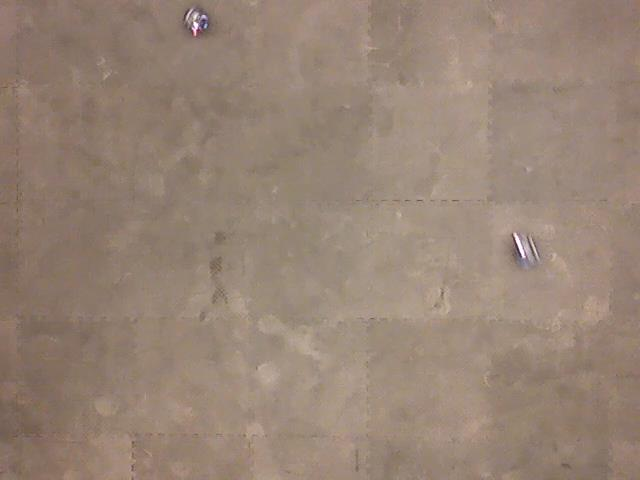Agent: (507, 227, 545, 272), (180, 3, 215, 38)
